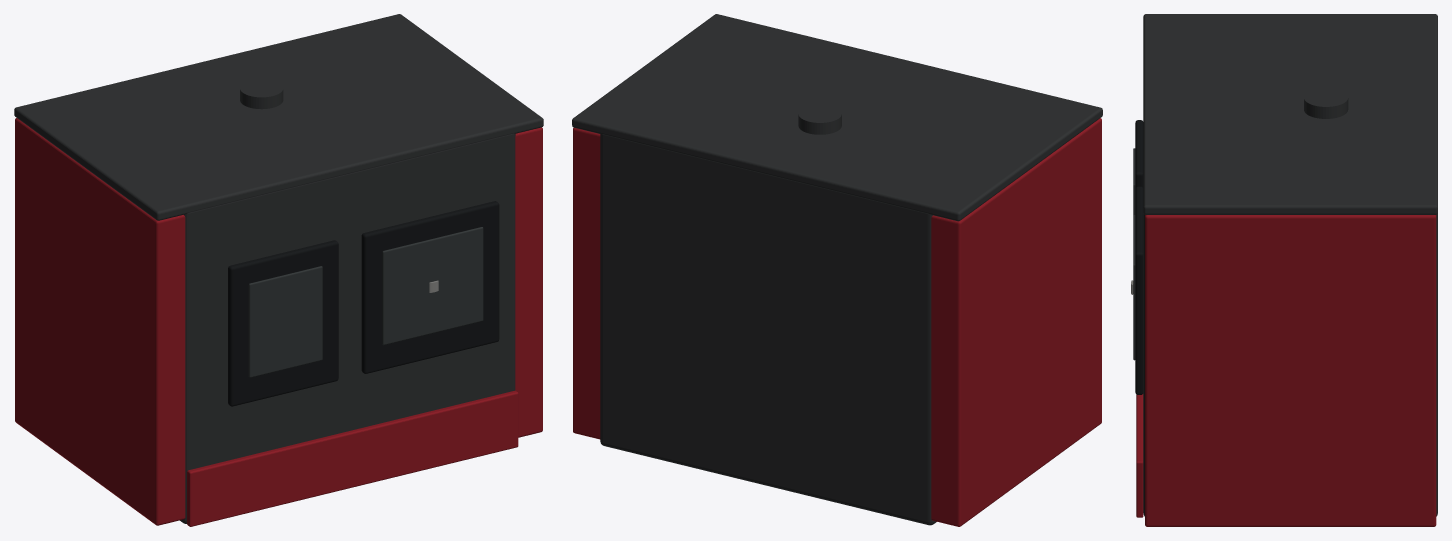
File: nordica-termorosa-dsa16-ceramica-bordeaux.glb
3 views of the same model, side by side, from view 1: azimuth 30°, elevation 25°; view 2: azimuth 150°, elevation 25°; view 3: azimuth 270°, elevation 25° (orthographic). The views are drawn at different scales.
Parts seen in each view (by area): view 1: Coperchio.003, Rivestimento laterale.006, Corpo.003, Pannello inferiore.001, Sportello forno.001, Vetro forno.001, Porta focolare.001, Rivestimento laterale.007, Vetro focolare.001, Scarico fumi.003; view 2: Corpo.003, Coperchio.003, Rivestimento laterale.006, Rivestimento laterale.007, Scarico fumi.003; view 3: Rivestimento laterale.007, Coperchio.003, Sportello forno.001, Scarico fumi.003, Corpo.003, Pannello inferiore.001, Porta focolare.001, Vetro forno.001.
Boxes of the visible parts, x1=… form: Coperchio.003: x1=14, y1=14, x2=543, y2=220; Rivestimento laterale.006: x1=15, y1=118, x2=185, y2=525; Corpo.003: x1=180, y1=133, x2=515, y2=523; Pannello inferiore.001: x1=187, y1=390, x2=518, y2=526; Sportello forno.001: x1=361, y1=201, x2=499, y2=373; Vetro forno.001: x1=382, y1=227, x2=483, y2=345; Porta focolare.001: x1=228, y1=240, x2=338, y2=406; Rivestimento laterale.007: x1=515, y1=127, x2=542, y2=437; Vetro focolare.001: x1=248, y1=266, x2=322, y2=377; Scarico fumi.003: x1=240, y1=79, x2=283, y2=109; Corpo.003: x1=600, y1=134, x2=936, y2=525; Coperchio.003: x1=572, y1=14, x2=1102, y2=221; Rivestimento laterale.006: x1=931, y1=118, x2=1101, y2=526; Rivestimento laterale.007: x1=573, y1=127, x2=600, y2=439; Scarico fumi.003: x1=798, y1=104, x2=841, y2=134; Rivestimento laterale.007: x1=1145, y1=215, x2=1436, y2=526; Coperchio.003: x1=1143, y1=14, x2=1437, y2=214; Sportello forno.001: x1=1135, y1=186, x2=1143, y2=394; Scarico fumi.003: x1=1304, y1=88, x2=1348, y2=118; Corpo.003: x1=1143, y1=213, x2=1437, y2=516; Pannello inferiore.001: x1=1136, y1=394, x2=1143, y2=517; Porta focolare.001: x1=1135, y1=120, x2=1143, y2=188; Vetro forno.001: x1=1133, y1=215, x2=1135, y2=360.
Size of the model in its own units: 1.03 by 0.845 by 0.692.
